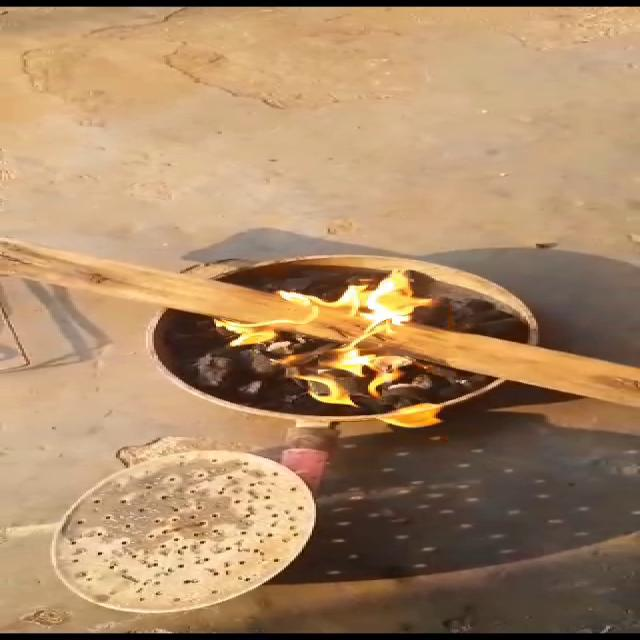Fire: (215, 256, 463, 404)
